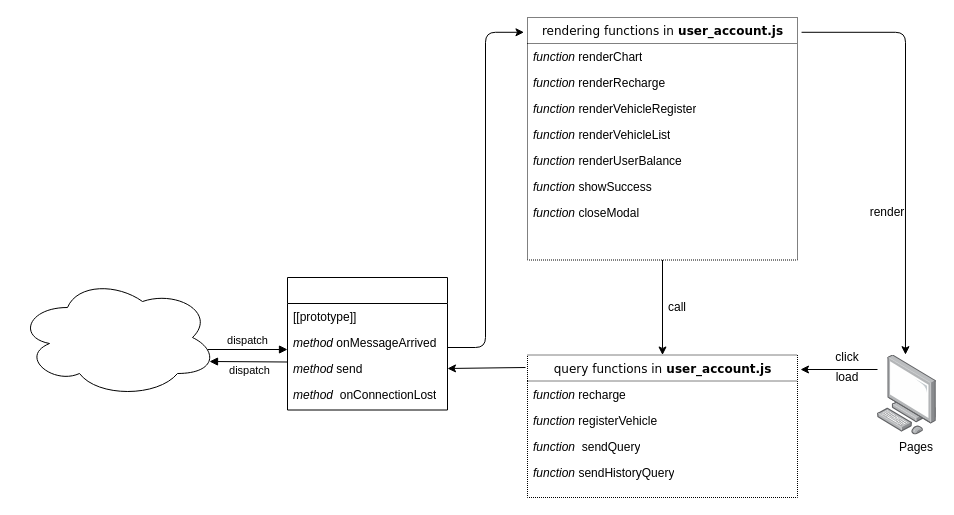
The diagram is 954 pixels wide and 515 high, and some of its shapes have lost their labels. Each missing label, with the box of its shape:
MQTT: (16, 276, 218, 398)
object client: (286, 276, 448, 410)
